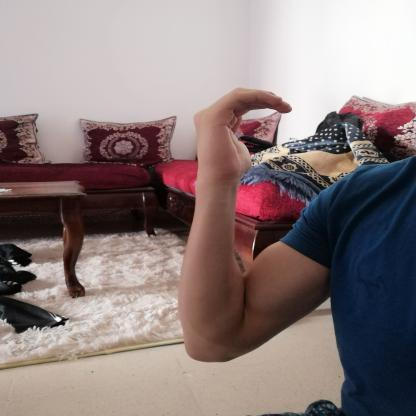HAA: (178, 80, 300, 184)
